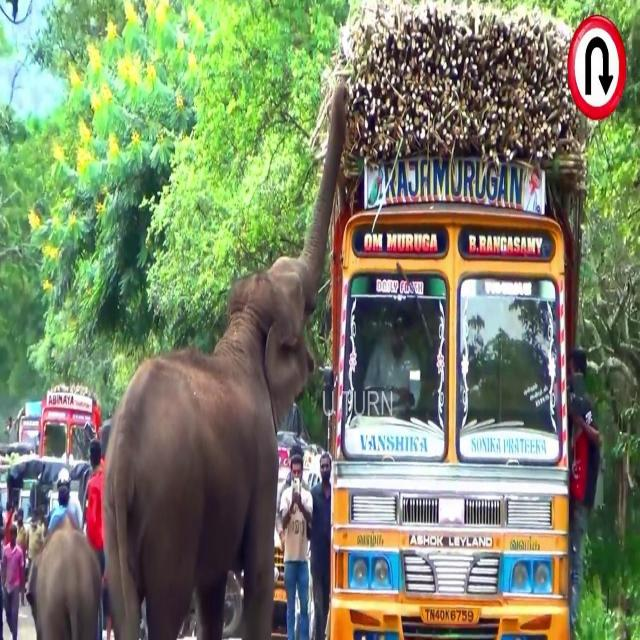Elephant: (101, 81, 347, 635)
